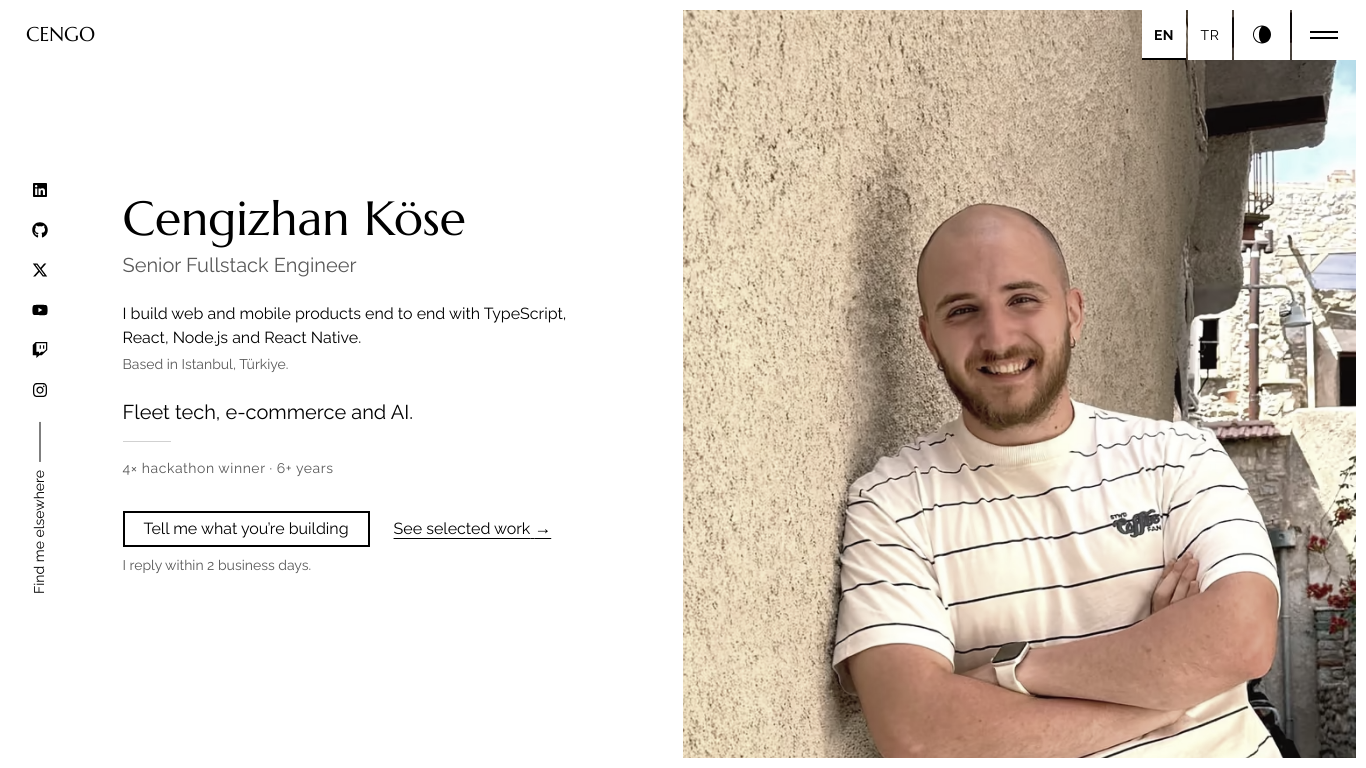
Test: opening and closing › keeps the body lock equal to the menu state (three clicks = open)
Step 1. Click the button named "Menu" → (1324, 35), box [1292, 10, 1356, 60]
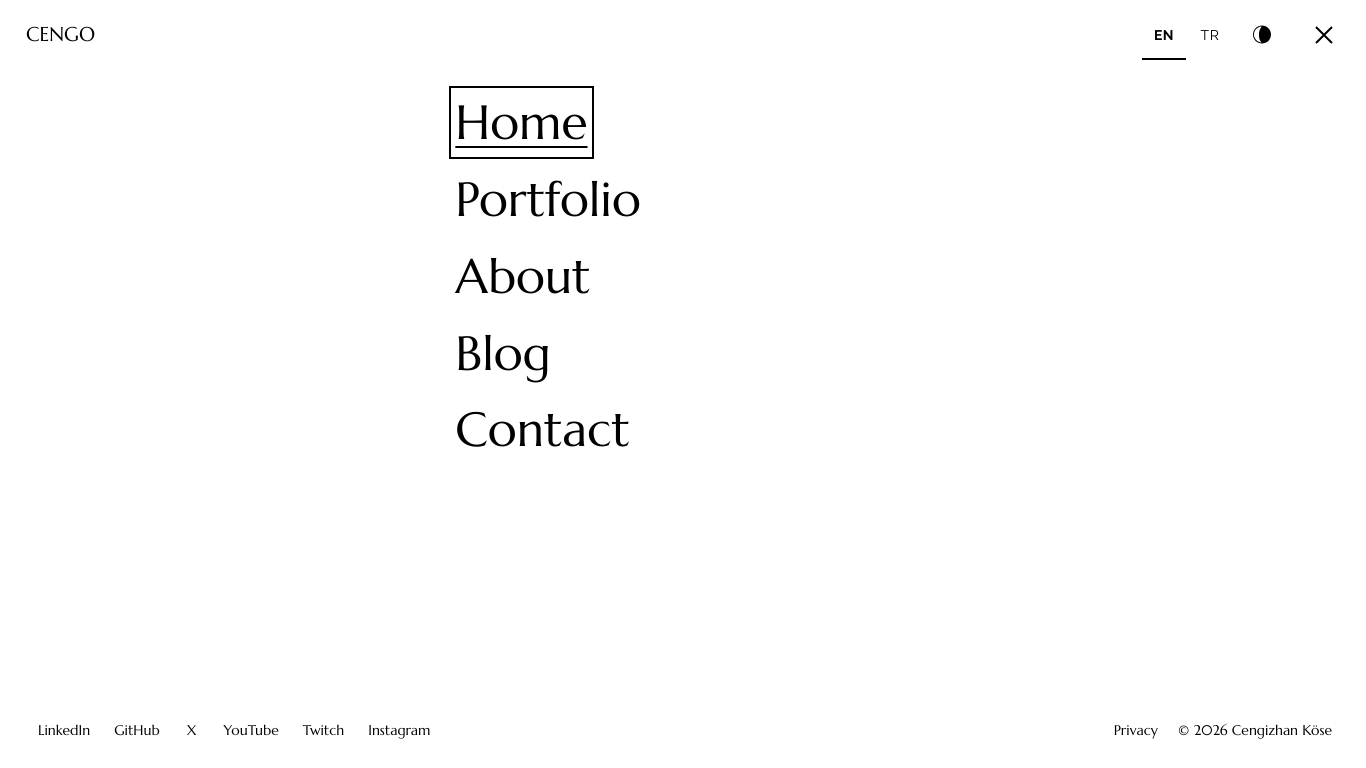
Check: the button named "Menu" is expanded
Step 2. Click the button named "Menu" → (1324, 35), box [1292, 10, 1356, 60]
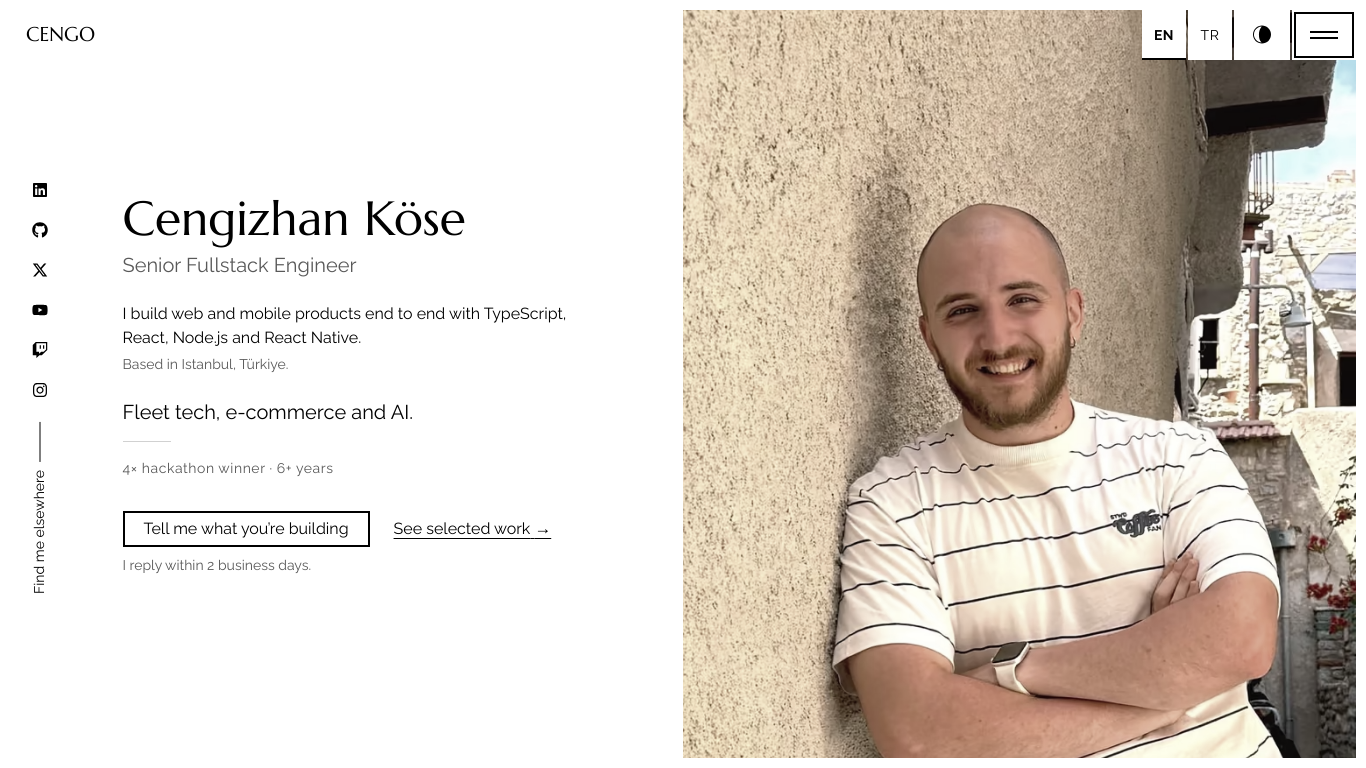
Check: the button named "Menu" is collapsed
Step 3. Click the button named "Menu" → (1324, 35), box [1292, 10, 1356, 60]
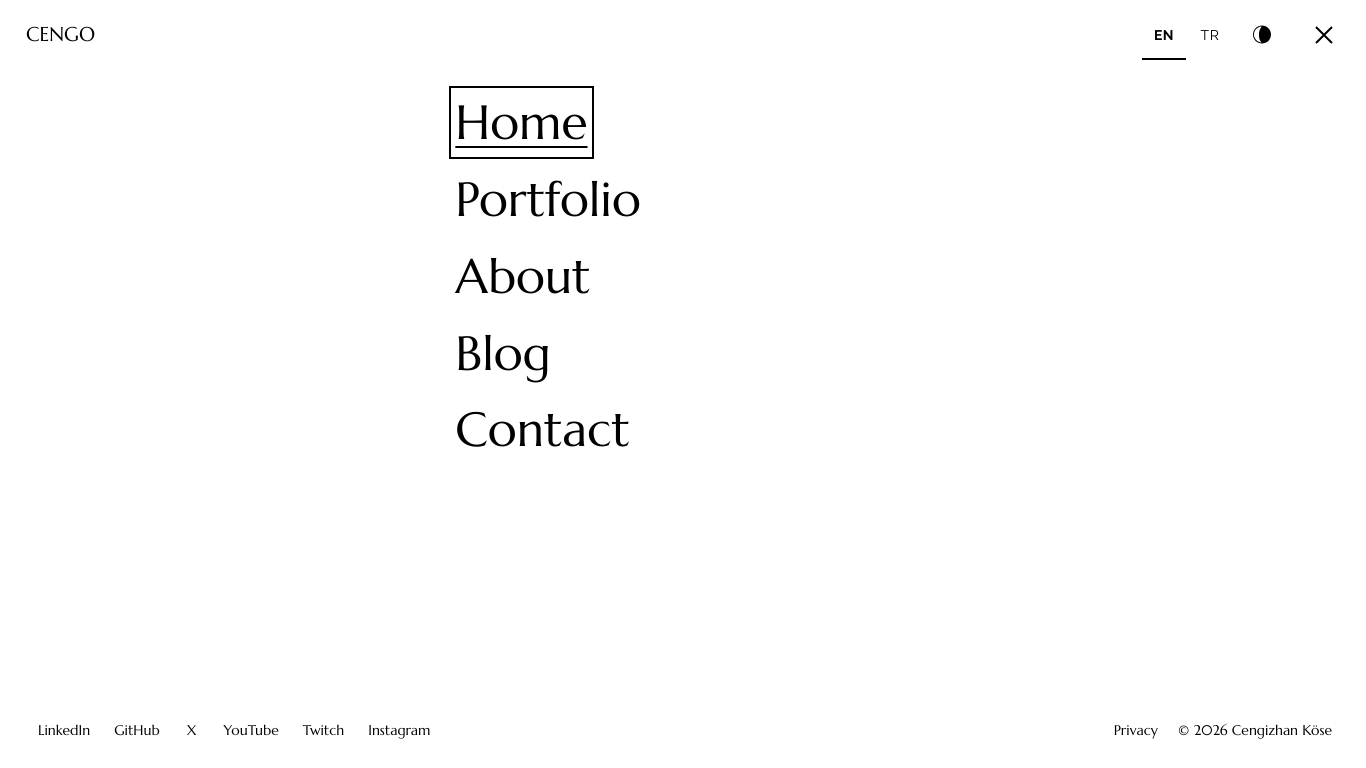
Check: the button named "Menu" is expanded, box [1292, 10, 1356, 60]
